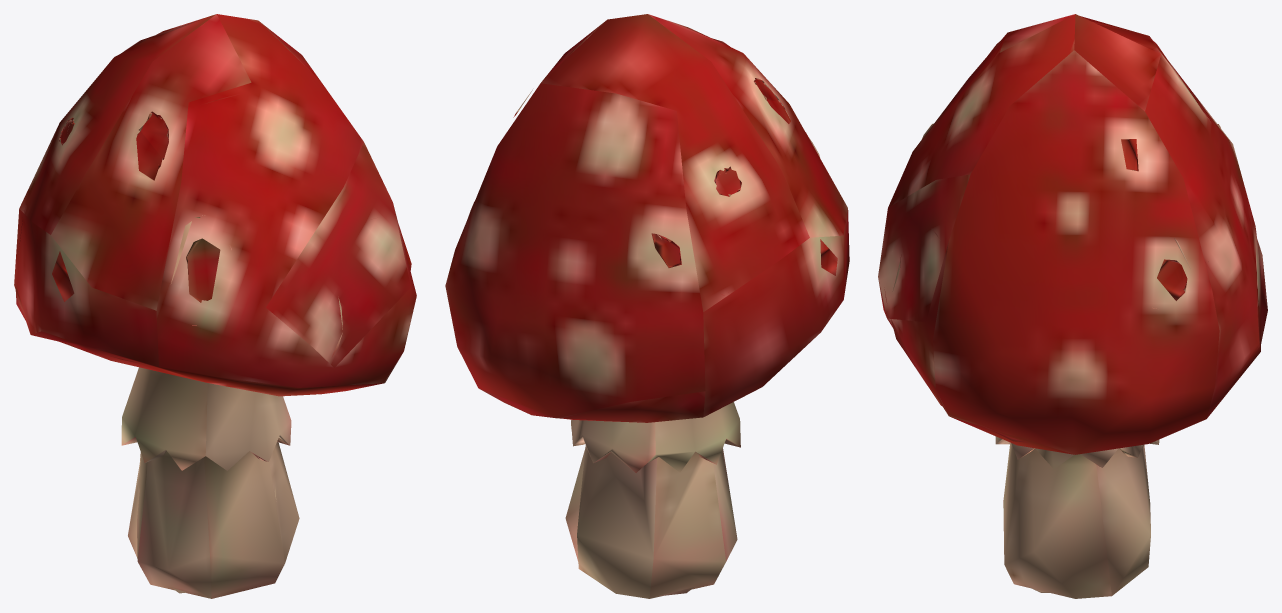
Rendered from mushroom.glb.
3 views of the same model, side by side, from view 1: azimuth 30°, elevation 25°; view 2: azimuth 150°, elevation 25°; view 3: azimuth 270°, elevation 25° (orthographic).
Bounding box in the file's own units: 0.5957 × 0.9481 × 0.592.
Materials: 1 (1 with a texture image).
